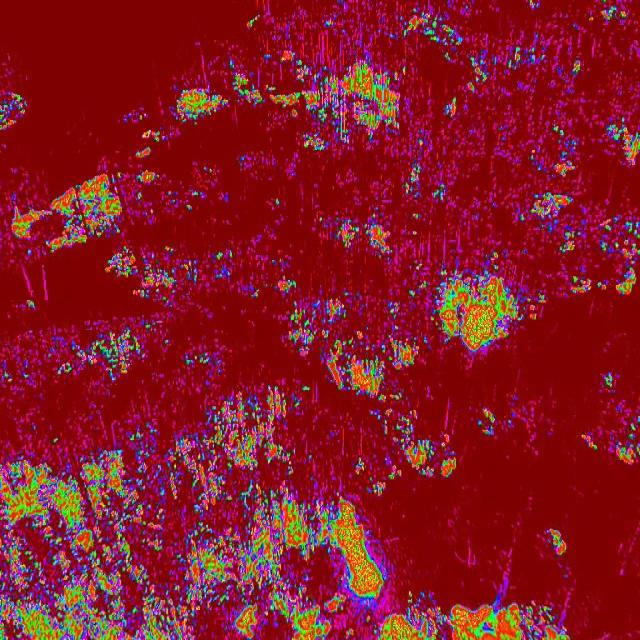fire: (0, 301, 384, 640), (404, 0, 640, 291), (175, 53, 407, 149), (385, 303, 461, 488), (106, 242, 298, 304), (15, 173, 133, 265), (386, 592, 570, 640), (242, 0, 406, 52), (436, 269, 535, 351), (581, 375, 640, 466), (318, 208, 404, 258), (136, 125, 164, 189), (0, 89, 33, 132), (541, 522, 573, 558)
